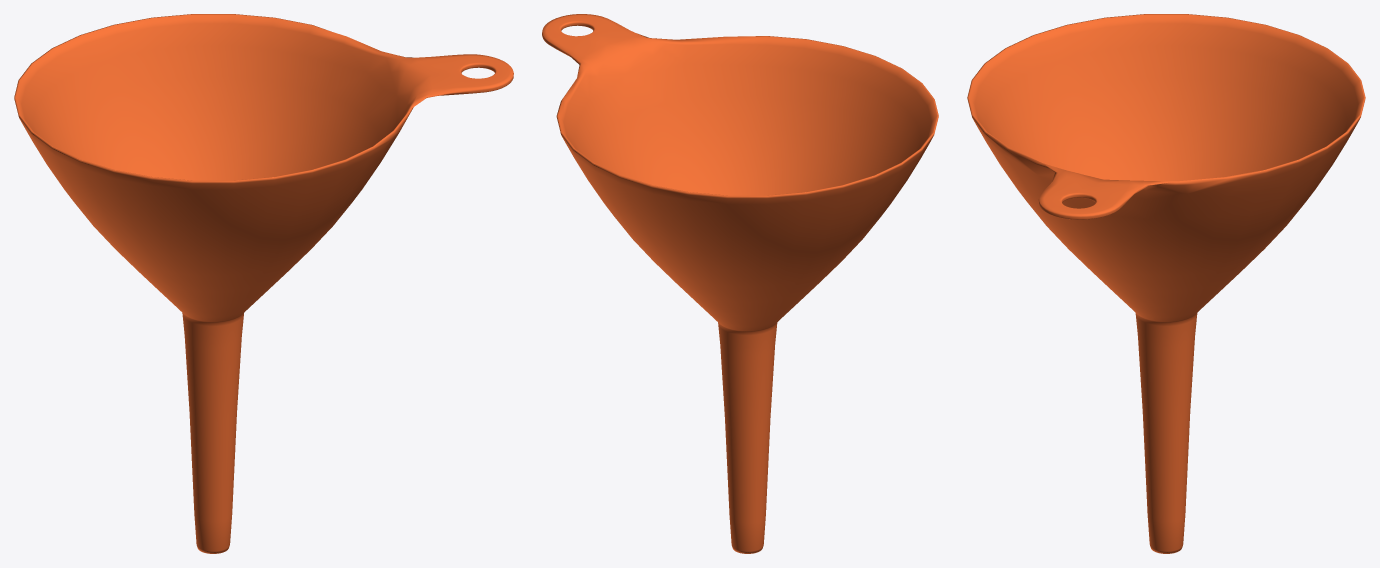
File: funnel .fbx
3 renders of one model, left to right at view 1: azimuth 30°, elevation 25°; view 2: azimuth 150°, elevation 25°; view 3: azimuth 270°, elevation 25°, orthographic. The views are drawn at different scales.
Visible parts, largest first — view 1: Cylinder; view 2: Cylinder; view 3: Cylinder.
Boxes of the visible parts, box(x1,y1,x2,y2) form: Cylinder: box(14, 14, 513, 553); Cylinder: box(542, 14, 938, 553); Cylinder: box(967, 14, 1365, 553).
Bounding box in the file's own units: 466 × 478 × 380.
